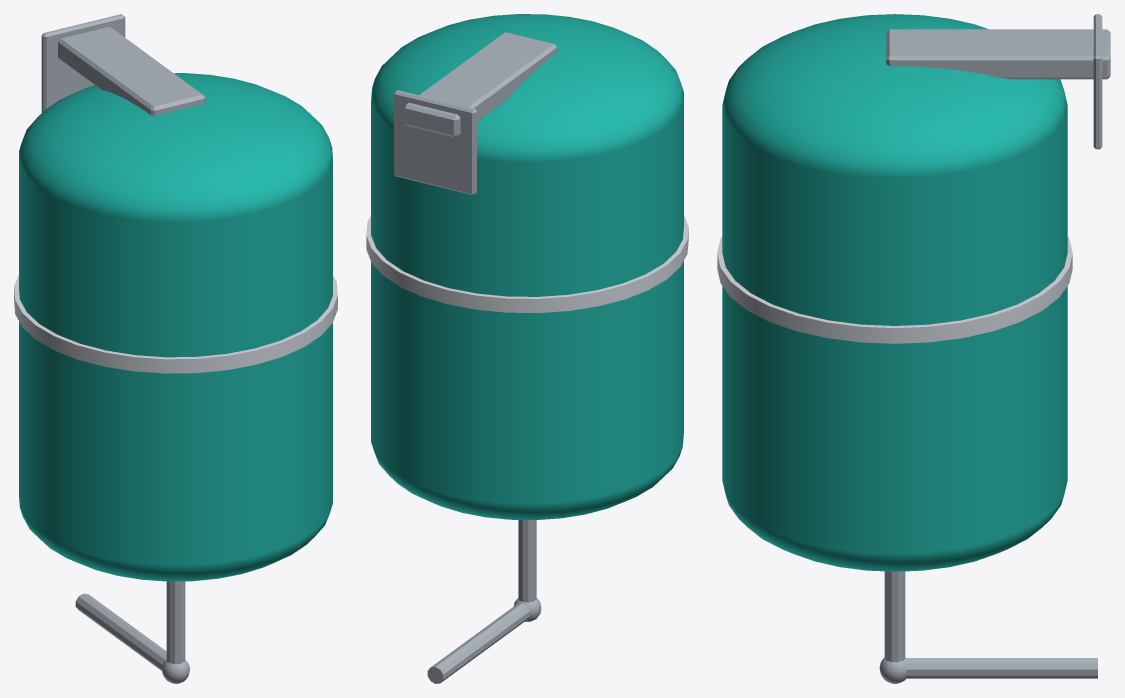
Rendered from expansion-vessel-large.glb.
3 views of the same model, side by side, from view 1: azimuth 30°, elevation 25°; view 2: azimuth 150°, elevation 25°; view 3: azimuth 270°, elevation 25° (orthographic). The views are drawn at different scales.
Visible parts, largest first — view 1: expansion-vessel-large; view 2: expansion-vessel-large; view 3: expansion-vessel-large.
Part boxes in pixels (x1,y1,x2,y2): expansion-vessel-large: [14, 14, 337, 683]; expansion-vessel-large: [366, 14, 688, 683]; expansion-vessel-large: [717, 14, 1110, 683].
Bounding box in the file's own units: 0.412 × 0.828 × 0.456.
